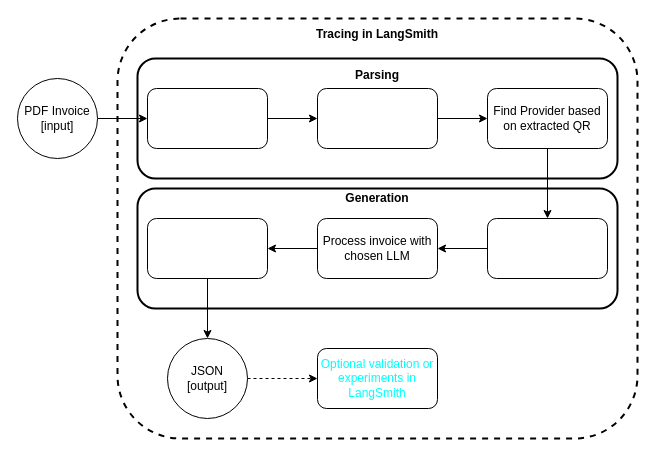
Some shapes in this 656 by 456 pixel diagram are drawn without their labels. Each missing label, with the box of its shape:
Categorize Line items with LLM: (146, 218, 268, 278)
Docling OCR / Marker OCR: (146, 88, 268, 148)
Retrieve custom prompt: (486, 218, 608, 278)
Swiss QR Bill extraction: (316, 88, 438, 148)
